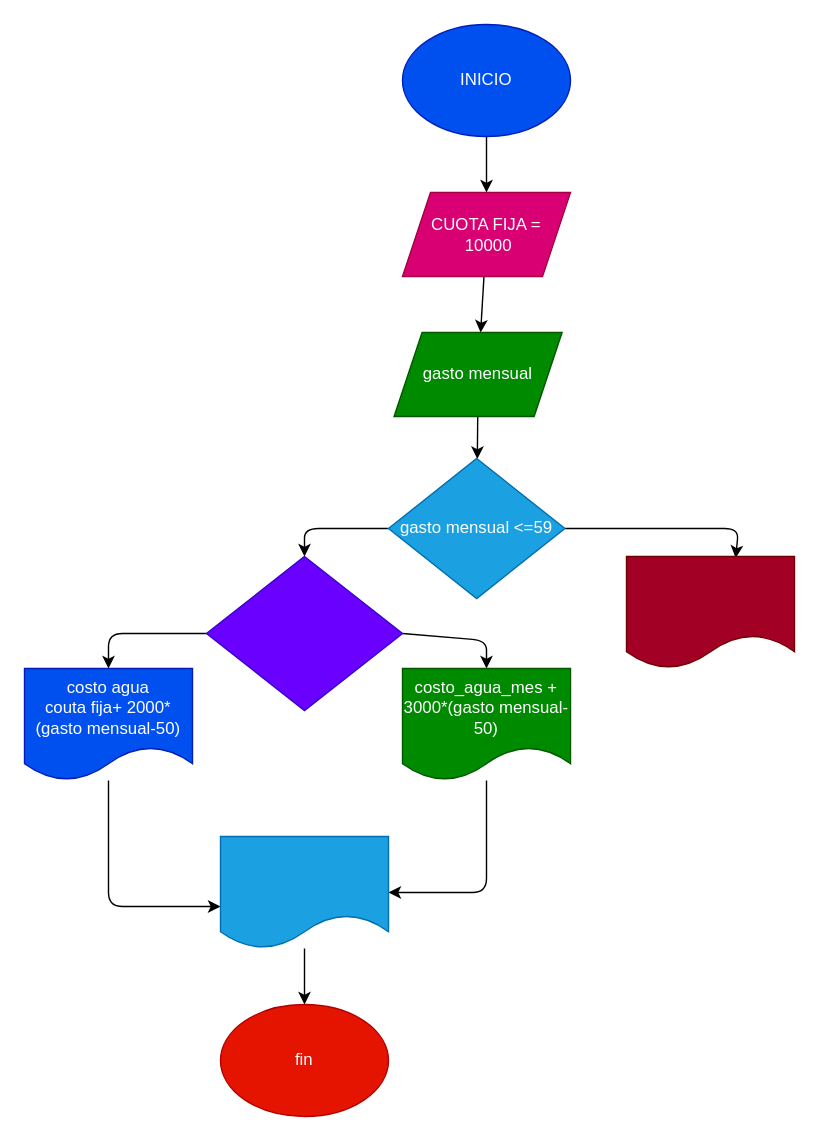
Some shapes in this 819 by 1141 pixel diagram are drawn without their labels. The centre of each missing label's shape, as x and y in pixels:
costo_agua_mes: (303,891)
costo_agua_mes =couta fija: (709,611)
gasto mensual <200: (303,632)
